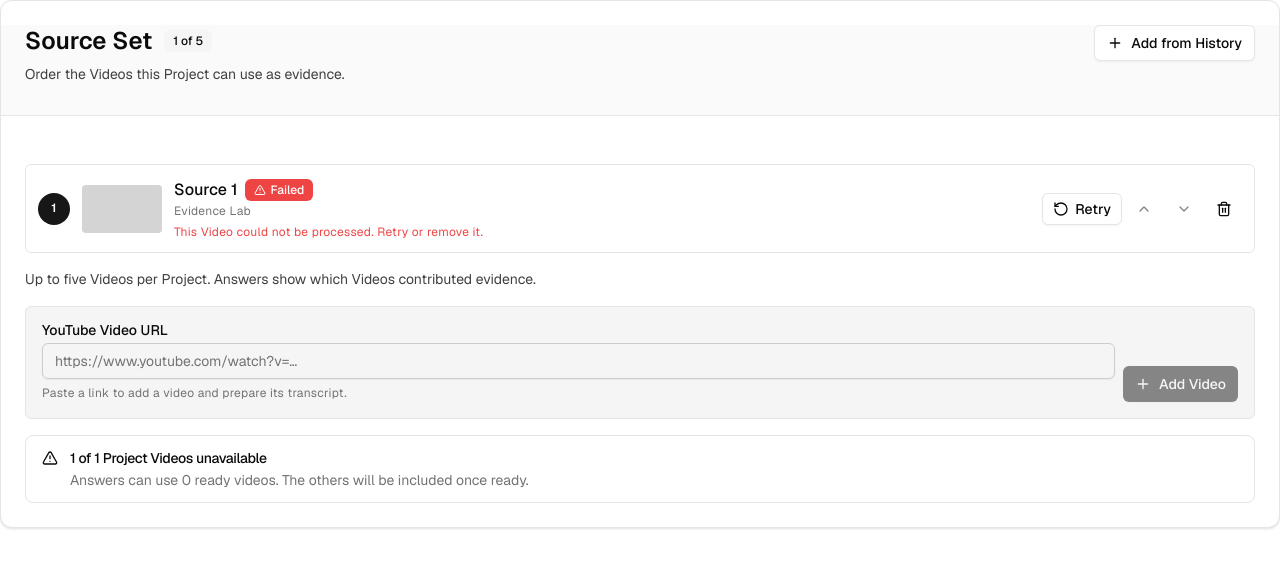
ProjectSourceSet › retries a failed membership in place without adding a duplicate
Click the button with aria-label "Retry Source 1". click: (1082, 209)
box: [1042,193,1122,225]
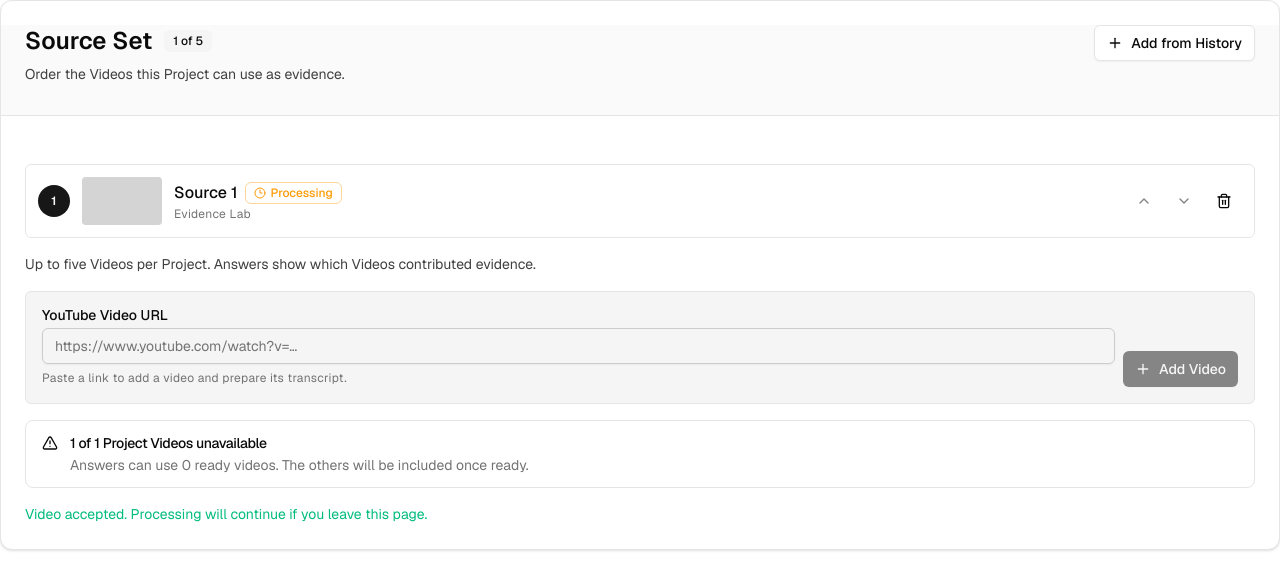
Expected: the number of links with test id "project-source-title" is 1, [174,180,237,206]
Now the text "Processing" is shown, box [245,182,342,204]
